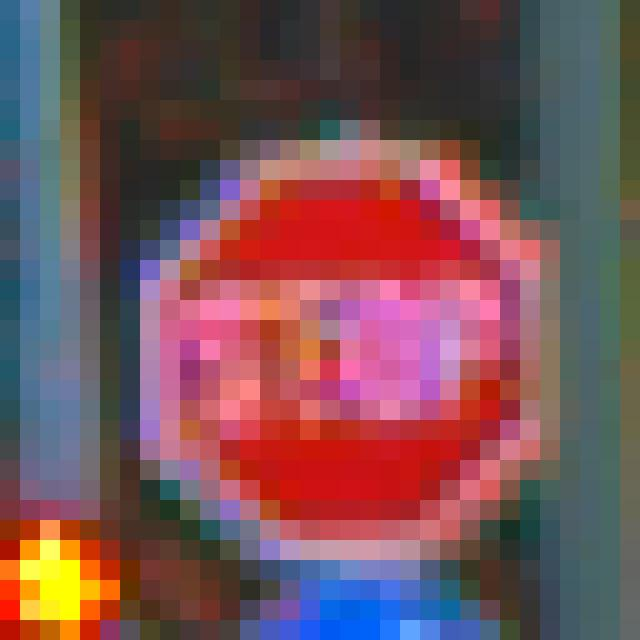STOP: (121, 121, 541, 541)
